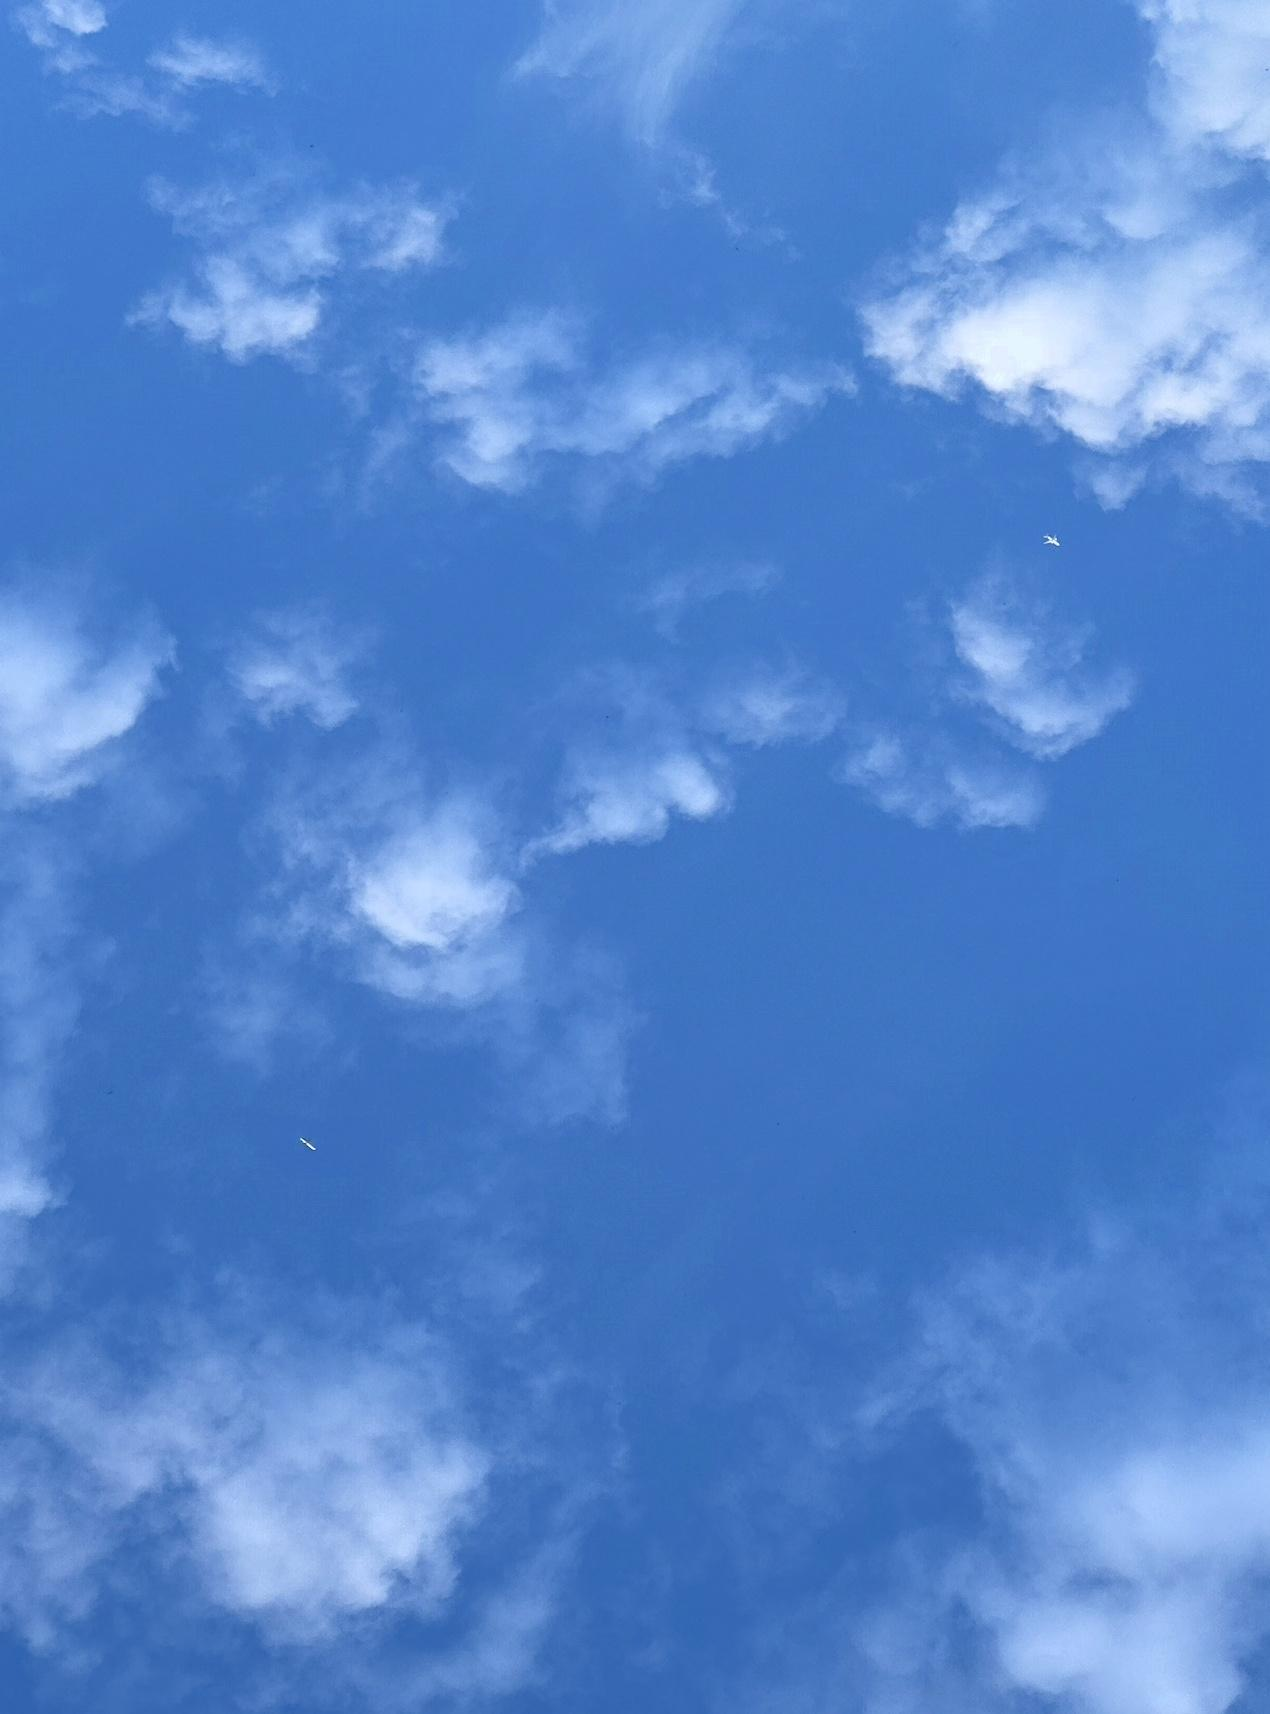Plane: (1014, 515, 1090, 558), (277, 1123, 342, 1167)
